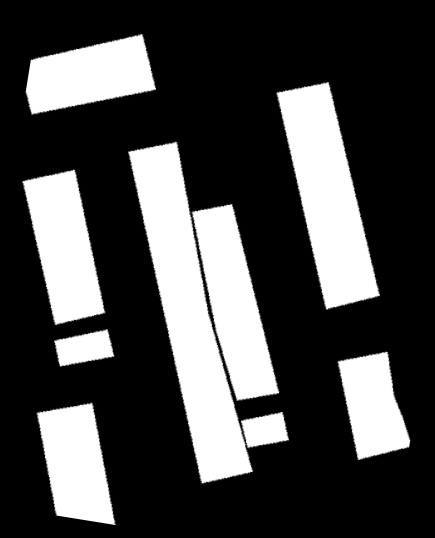parkingspot: (128, 142, 253, 483), (277, 82, 380, 310), (192, 204, 279, 401), (22, 170, 105, 325), (26, 34, 156, 115), (37, 403, 116, 525), (338, 352, 410, 460), (54, 329, 114, 366), (241, 412, 289, 448)
